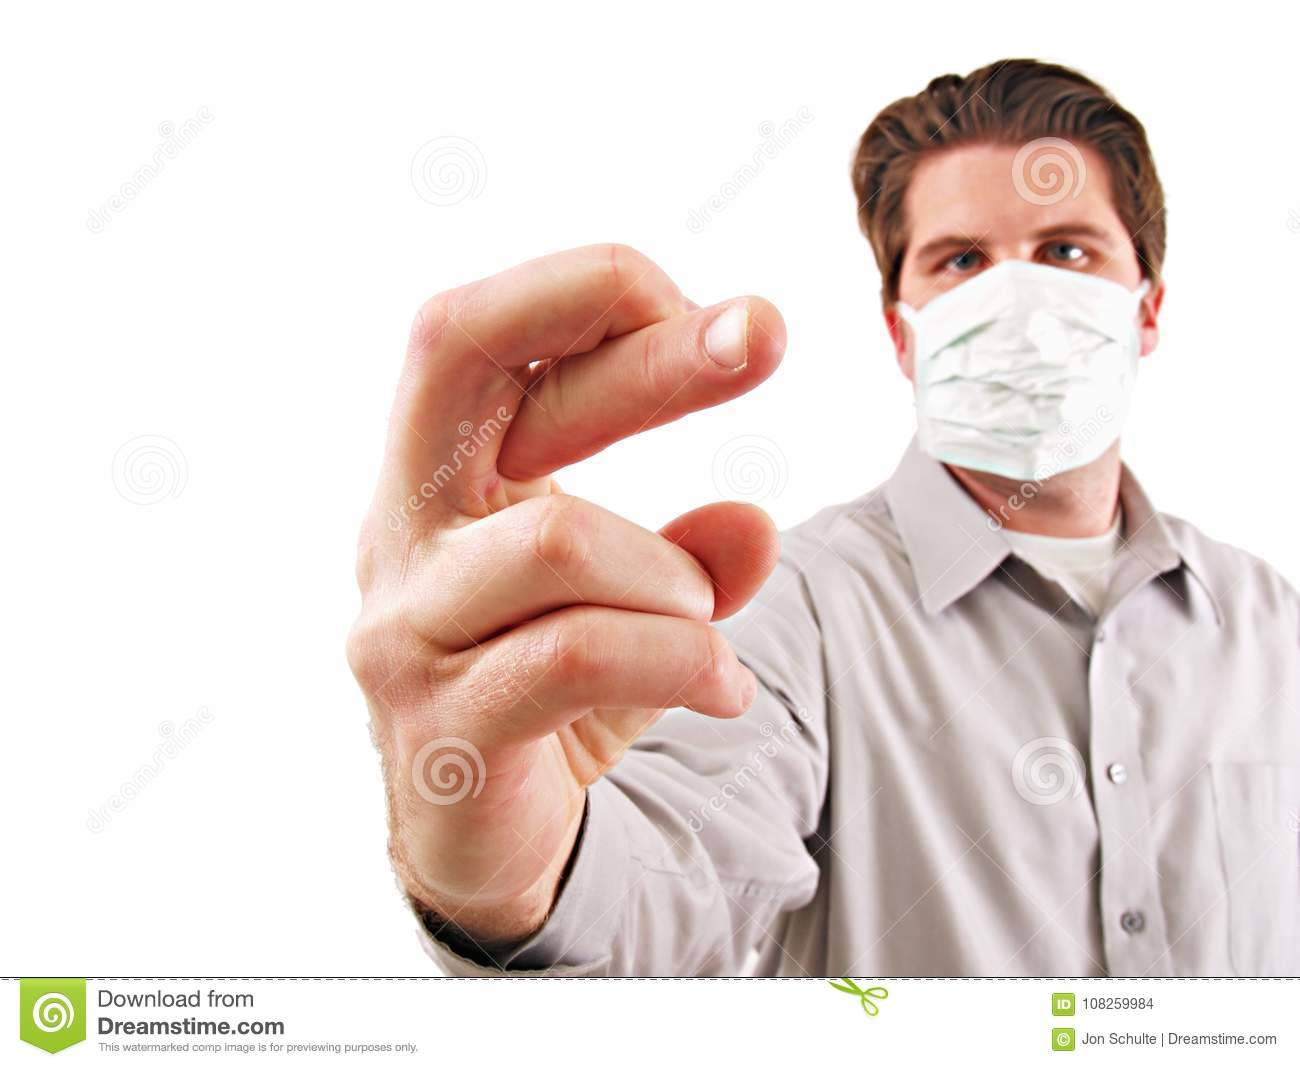mask: (909, 259, 1138, 483)
